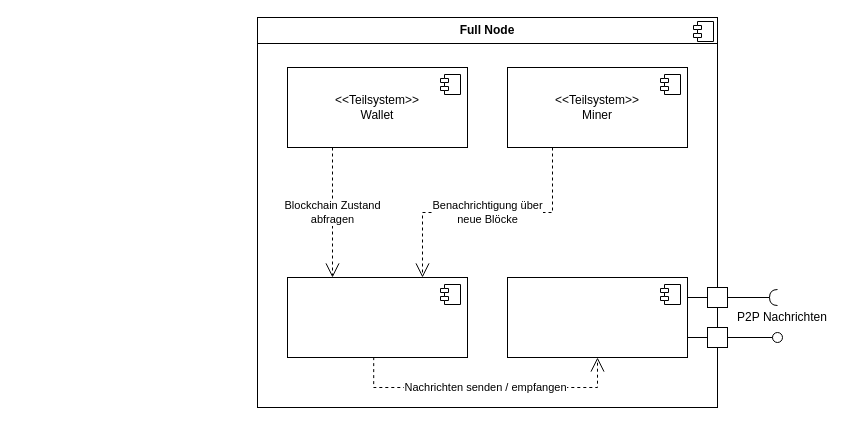
This 854x425 diagram has some shape labels left out. The centre of each missing label's shape, as x and y in pixels:
"<<Teilsystem>> Blockchain" goes at point 377,317.
"<<Teilsystem>> Netzwerkrouting" goes at point 597,317.
